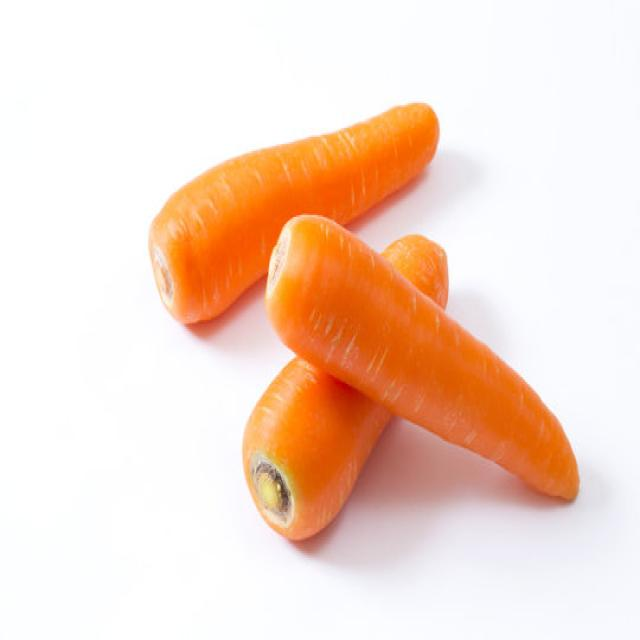Carrot: (263, 212, 580, 502), (147, 100, 440, 326), (240, 354, 394, 540), (379, 231, 449, 311)
